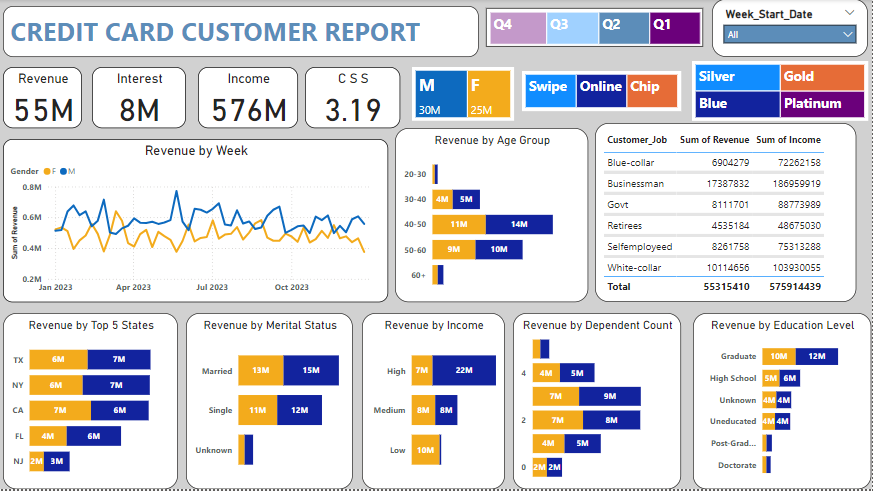

The dashboard page shown, as its layout file describes it:
{"tool":"powerbi","page":{"name":"Credit Card Customer","canvas":[1280,720],"ordinal":1},"visuals":[{"type":"textbox","box":[4.4,10.3,699.4,74.9],"z":0},{"type":"barChart","title":"Revenue by Income","fields":{"Y":["Sum(credit_card.Revenue)"],"Category":["customer.income group"],"Series":["customer.Gender"]},"box":[531.9,461.4,210.1,258.6],"z":1000},{"type":"tableEx","fields":{"Values":["customer.Customer_Job","Sum(credit_card.Revenue)","Sum(customer.Income)"]},"box":[874.3,182.2,383.5,263],"z":2000},{"type":"card","title":"Revenue","fields":{"Values":["Sum(credit_card.Revenue)"]},"box":[4.4,99.9,116.1,89.6],"z":3000},{"type":"card","title":"Interest","fields":{"Values":["Sum(credit_card.Interest_Earned)"]},"box":[135.2,99.9,138.1,89.6],"z":4000},{"type":"card","title":"Income","fields":{"Values":["Sum(customer.Income)"]},"box":[290.9,99.9,146.9,89.6],"z":5000},{"type":"card","title":"C S S","fields":{"Values":["Avg(customer.Cust_Satisfaction_Score)"]},"box":[448.2,99.9,139.6,89.6],"z":6000},{"type":"slicer","fields":{"Values":["credit_card.Week_Start_Date"]},"box":[1046.2,0,229.2,85.2],"z":7000},{"type":"treemap","fields":{"Group":["credit_card.Qtr"],"Values":["Avg(customer.Client_Num)"]},"box":[714.1,13.2,318.9,57.3],"z":8000},{"type":"lineChart","title":" Revenue by Week","fields":{"Y":["Sum(credit_card.Revenue)"],"Series":["customer.Gender"],"Category":["credit_card.Week_Start_Date.Variation.Date Hierarchy.Year","credit_card.Week_Start_Date.Variation.Date Hierarchy.Month","credit_card.Week_Start_Date.Variation.Date Hierarchy.Day"]},"box":[4.4,205.7,565.7,239.5],"z":9000},{"type":"treemap","fields":{"Group":["customer.Gender"],"Values":["Sum(credit_card.Revenue)"]},"box":[605.4,99.9,149.9,79.3],"z":10000},{"type":"barChart","title":"Revenue by Age Group","fields":{"Y":["Sum(credit_card.Revenue)"],"Category":["customer.Age group"],"Series":["customer.Gender"]},"box":[580.4,189.6,283.6,255.7],"z":11000},{"type":"barChart","title":"Revenue by Dependent Count","fields":{"Y":["Sum(credit_card.Revenue)"],"Category":["customer.Dependent_Count"],"Series":["customer.Gender"]},"box":[753.8,461.4,246.9,258.6],"z":12000},{"type":"barChart","title":"Revenue by Education Level","fields":{"Y":["Sum(credit_card.Revenue)"],"Category":["customer.Education_Level"],"Series":["customer.Gender"]},"box":[1018.3,461.4,261.6,258.6],"z":13000},{"type":"barChart","title":"Revenue by Top 5 States","fields":{"Y":["Sum(credit_card.Revenue)"],"Category":["customer.state_cd"],"Series":["customer.Gender"]},"box":[4.4,461.4,257.1,258.6],"z":14000},{"type":"barChart","title":"Revenue by Merital Status","fields":{"Y":["Sum(credit_card.Revenue)"],"Category":["customer.Marital_Status"],"Series":["customer.Gender"]},"box":[273.3,461.4,245.4,258.6],"z":15000},{"type":"treemap","fields":{"Values":["Avg(customer.Client_Num)"],"Group":["credit_card.Card_Category"]},"box":[1016.8,91.1,258.6,88.2],"z":15001},{"type":"treemap","fields":{"Values":["Avg(customer.Client_Num)"],"Group":["credit_card.Use Chip"]},"box":[767,105.8,233.6,58.8],"z":15002}]}

Visuals, with their boxes in screenshot pixels (x1, y1, x2, y2), scaled from the page's 1280x720 canvas onto the 873x491 screenshot:
textbox: (3, 7, 480, 58)
"Revenue by Income" barChart: (363, 315, 506, 490)
tableEx - customer.Customer_Job x Sum(credit_card.Revenue): (596, 124, 858, 304)
"Revenue" card: (3, 68, 82, 129)
"Interest" card: (92, 68, 186, 129)
"Income" card: (198, 68, 299, 129)
"C S S" card: (306, 68, 401, 129)
slicer - credit_card.Week_Start_Date: (714, 0, 870, 58)
treemap - credit_card.Qtr x Avg(customer.Client_Num): (487, 9, 705, 48)
" Revenue by Week" lineChart: (3, 140, 389, 304)
treemap - customer.Gender x Sum(credit_card.Revenue): (413, 68, 515, 122)
"Revenue by Age Group" barChart: (396, 129, 589, 304)
"Revenue by Dependent Count" barChart: (514, 315, 683, 490)
"Revenue by Education Level" barChart: (695, 315, 872, 490)
"Revenue by Top 5 States" barChart: (3, 315, 178, 490)
"Revenue by Merital Status" barChart: (186, 315, 354, 490)
treemap - Avg(customer.Client_Num) x credit_card.Card_Category: (693, 62, 870, 122)
treemap - Avg(customer.Client_Num) x credit_card.Use Chip: (523, 72, 682, 112)
